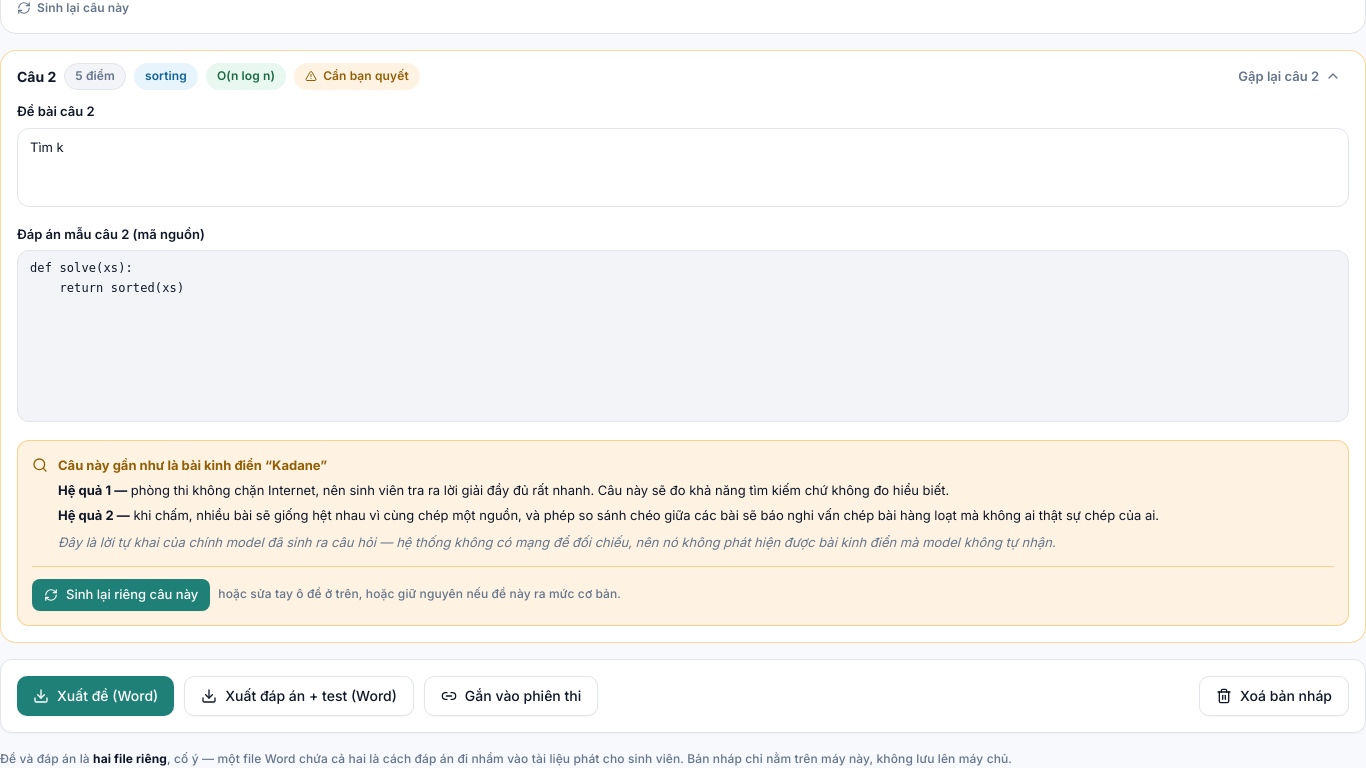
ExamAuthoringPage — gắn vào phiên thi › phiên ĐANG THI hiện nhưng KHÔNG chọn được, kèm lý do
(page scrolled)
expect the text box showing "Tìm k" is shown: met, box [17,128,1349,207]
Click the button "Gắn vào phiên thi".
click(511, 696)  # box [424,676,598,716]
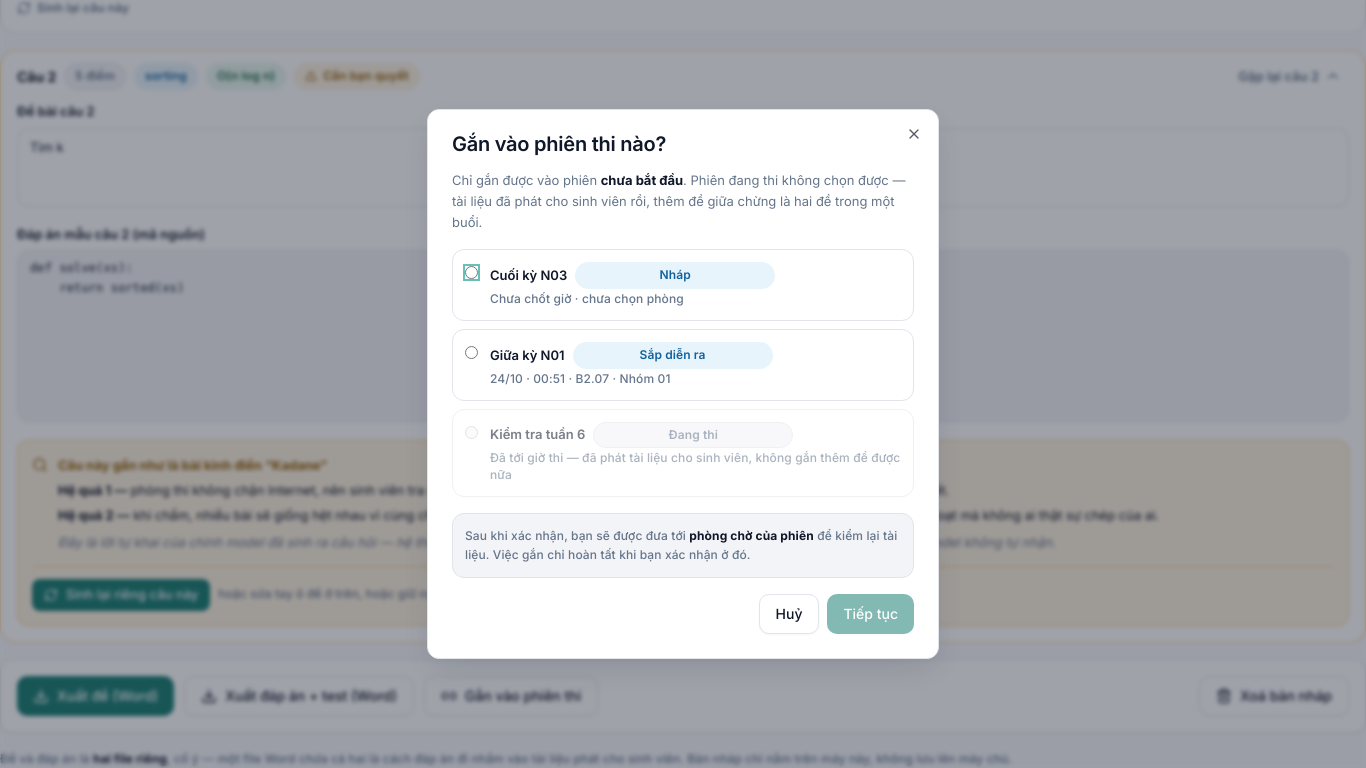
expect the radio button labelled "Cuối kỳ N03 Nháp Chưa chốt giờ · chưa chọn phòng" is enabled: met, box [465,266,478,279]
expect the radio button labelled "Giữa kỳ N01 Sắp diễn ra 24/10 · 00:51 · B2.07 · Nhóm 01" is enabled: met, box [465,346,478,359]
expect the text "đã phát tài liệu cho sinh viên" is shown: met, box [490,450,900,482]
